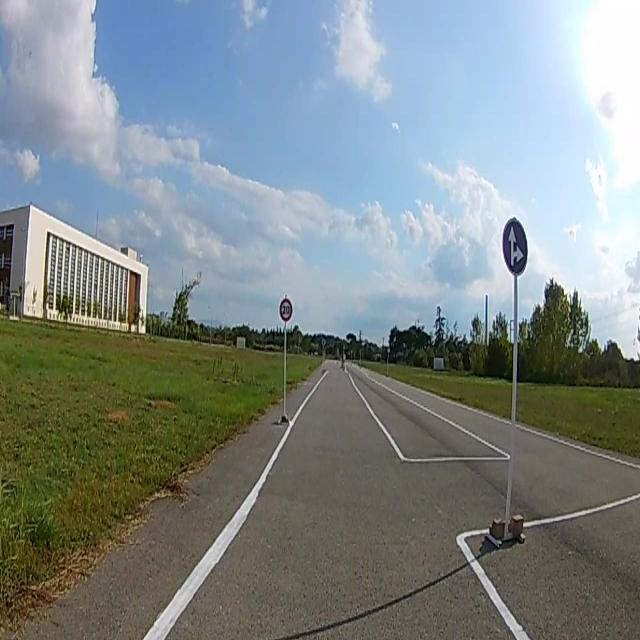20: (280, 299, 292, 321)
ilerisag: (502, 222, 528, 275)
